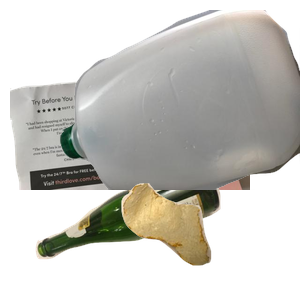glass: (33, 158, 246, 300)
paper: (10, 61, 250, 241)
plastic: (60, 10, 300, 190)
trash: (119, 181, 300, 300)
